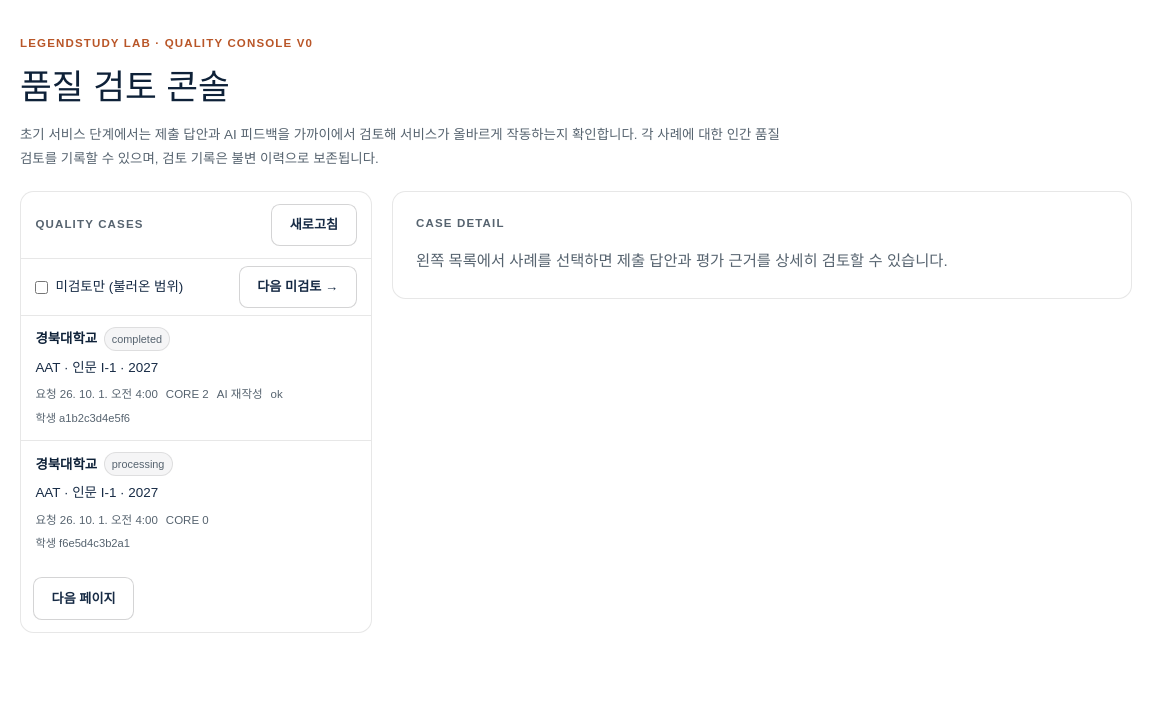
QualityConsole operator workspace › T19: no account direct identifiers are rendered (pseudonym only)
Click the text "completed".
click(137, 339)  # box [104,327,170,351]
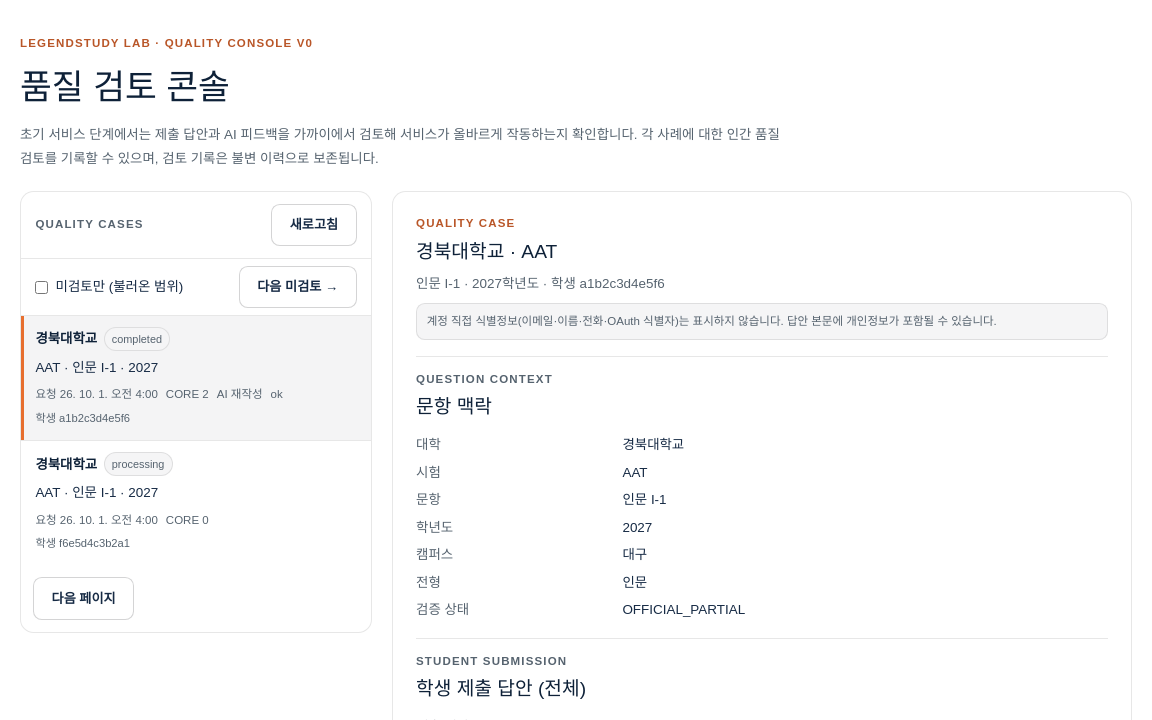
Result: the text "계정 직접 식별정보" is shown at [427,316,997,328]
